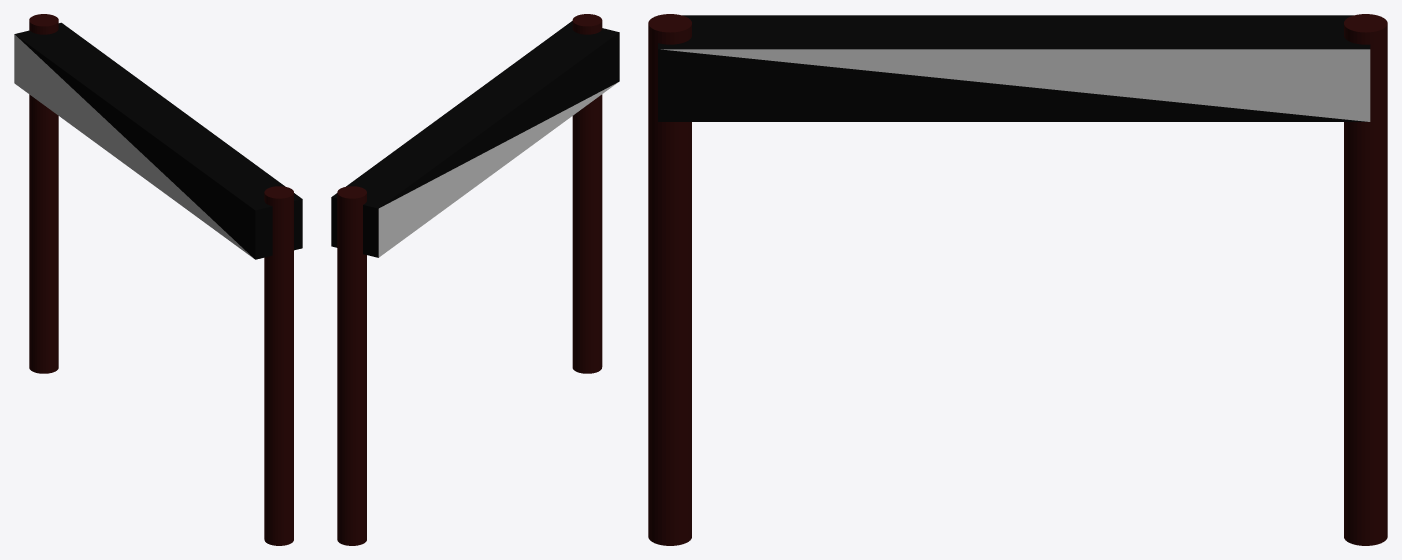
File: finish_flag.obj
3 views of the same model, side by side, from view 1: azimuth 30°, elevation 25°; view 2: azimuth 150°, elevation 25°; view 3: azimuth 270°, elevation 25° (orthographic). The views are drawn at different scales.
Visible parts, largest first — view 1: Cube_Cube.001, Cylinder.001, Cylinder; view 2: Cube_Cube.001, Cylinder, Cylinder.001; view 3: Cube_Cube.001, Cylinder, Cylinder.001.
Part boxes in pixels (x1,y1,x2,y2): Cube_Cube.001: (14, 22, 302, 259); Cylinder.001: (264, 186, 293, 545); Cylinder: (29, 14, 58, 373); Cube_Cube.001: (331, 21, 619, 257); Cylinder: (337, 186, 366, 545); Cylinder.001: (572, 14, 602, 373); Cube_Cube.001: (658, 15, 1370, 121); Cylinder: (1344, 14, 1387, 545); Cylinder.001: (648, 14, 691, 545).
Bounding box in the file's own units: 2 × 14.09 × 18.39.
